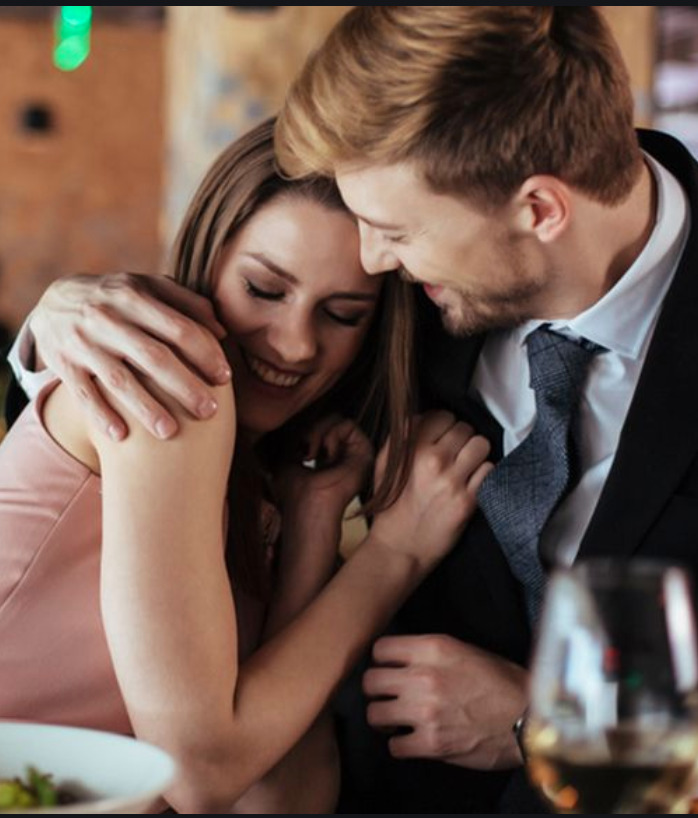Bad: (3, 1, 697, 567)
